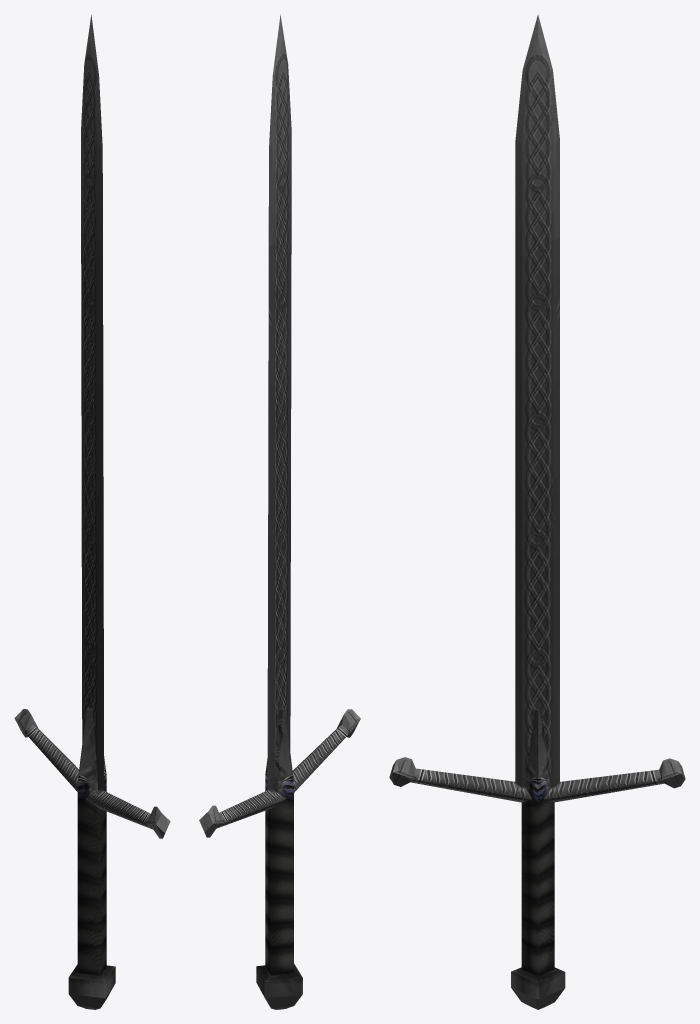
The model's file is sword1.FBX.
3 renders of one model, left to right at view 1: azimuth 30°, elevation 25°; view 2: azimuth 150°, elevation 25°; view 3: azimuth 270°, elevation 25°, orthographic.
Parts seen in each view (by area): view 1: Cylinder004; view 2: Cylinder004; view 3: Cylinder004.
Part boxes in pixels (x1,y1,x2,y2): Cylinder004: [14, 15, 170, 1009]; Cylinder004: [199, 14, 360, 1009]; Cylinder004: [389, 14, 685, 1009].
Size of the model in its own units: 7.12 by 38.97 by 144.
